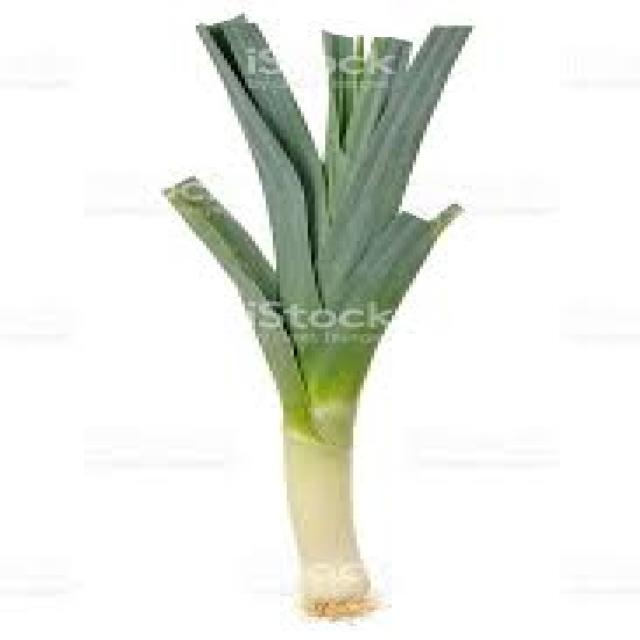organic waste: (154, 9, 469, 612)
